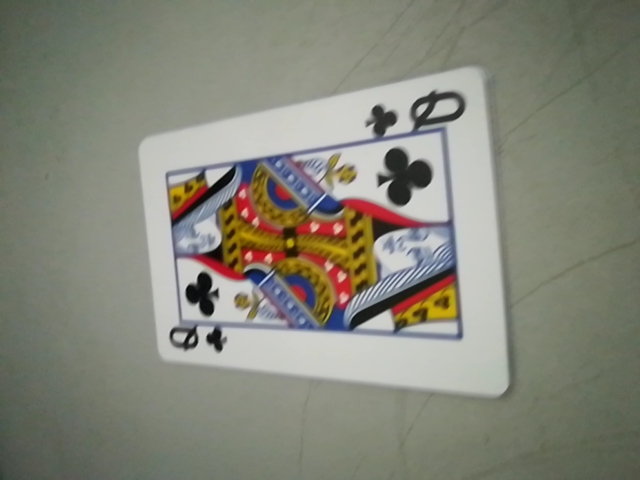mh j: (365, 86, 469, 140), (163, 319, 232, 362)
